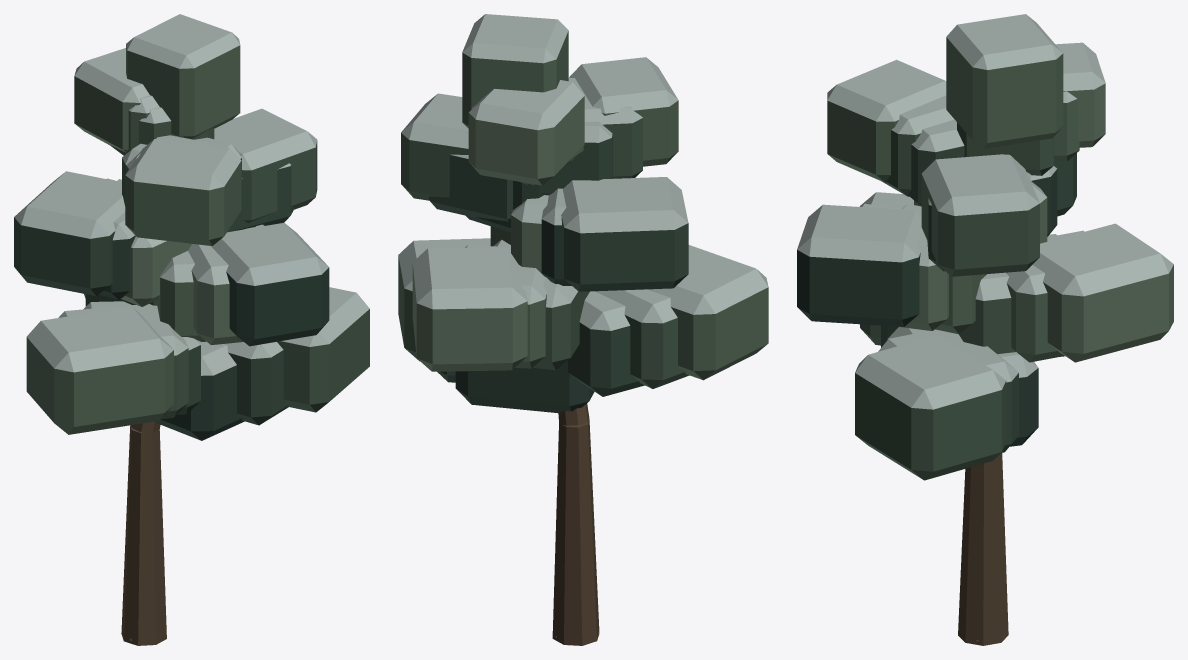
The model's file is juniper_mature_winter_2_picked.glb.
3 renders of one model, left to right at view 1: azimuth 30°, elevation 25°; view 2: azimuth 150°, elevation 25°; view 3: azimuth 270°, elevation 25°, orthographic. The views are drawn at different scales.
Parts seen in each view (by area): view 1: juniper_mature_winter_2_picked; view 2: juniper_mature_winter_2_picked; view 3: juniper_mature_winter_2_picked.
Boxes of the visible parts, <box> form: juniper_mature_winter_2_picked: <box>14,14,369,645</box>; juniper_mature_winter_2_picked: <box>398,14,768,645</box>; juniper_mature_winter_2_picked: <box>797,14,1173,645</box>.
Size of the model in its own units: 7.2 by 12 by 6.54.
